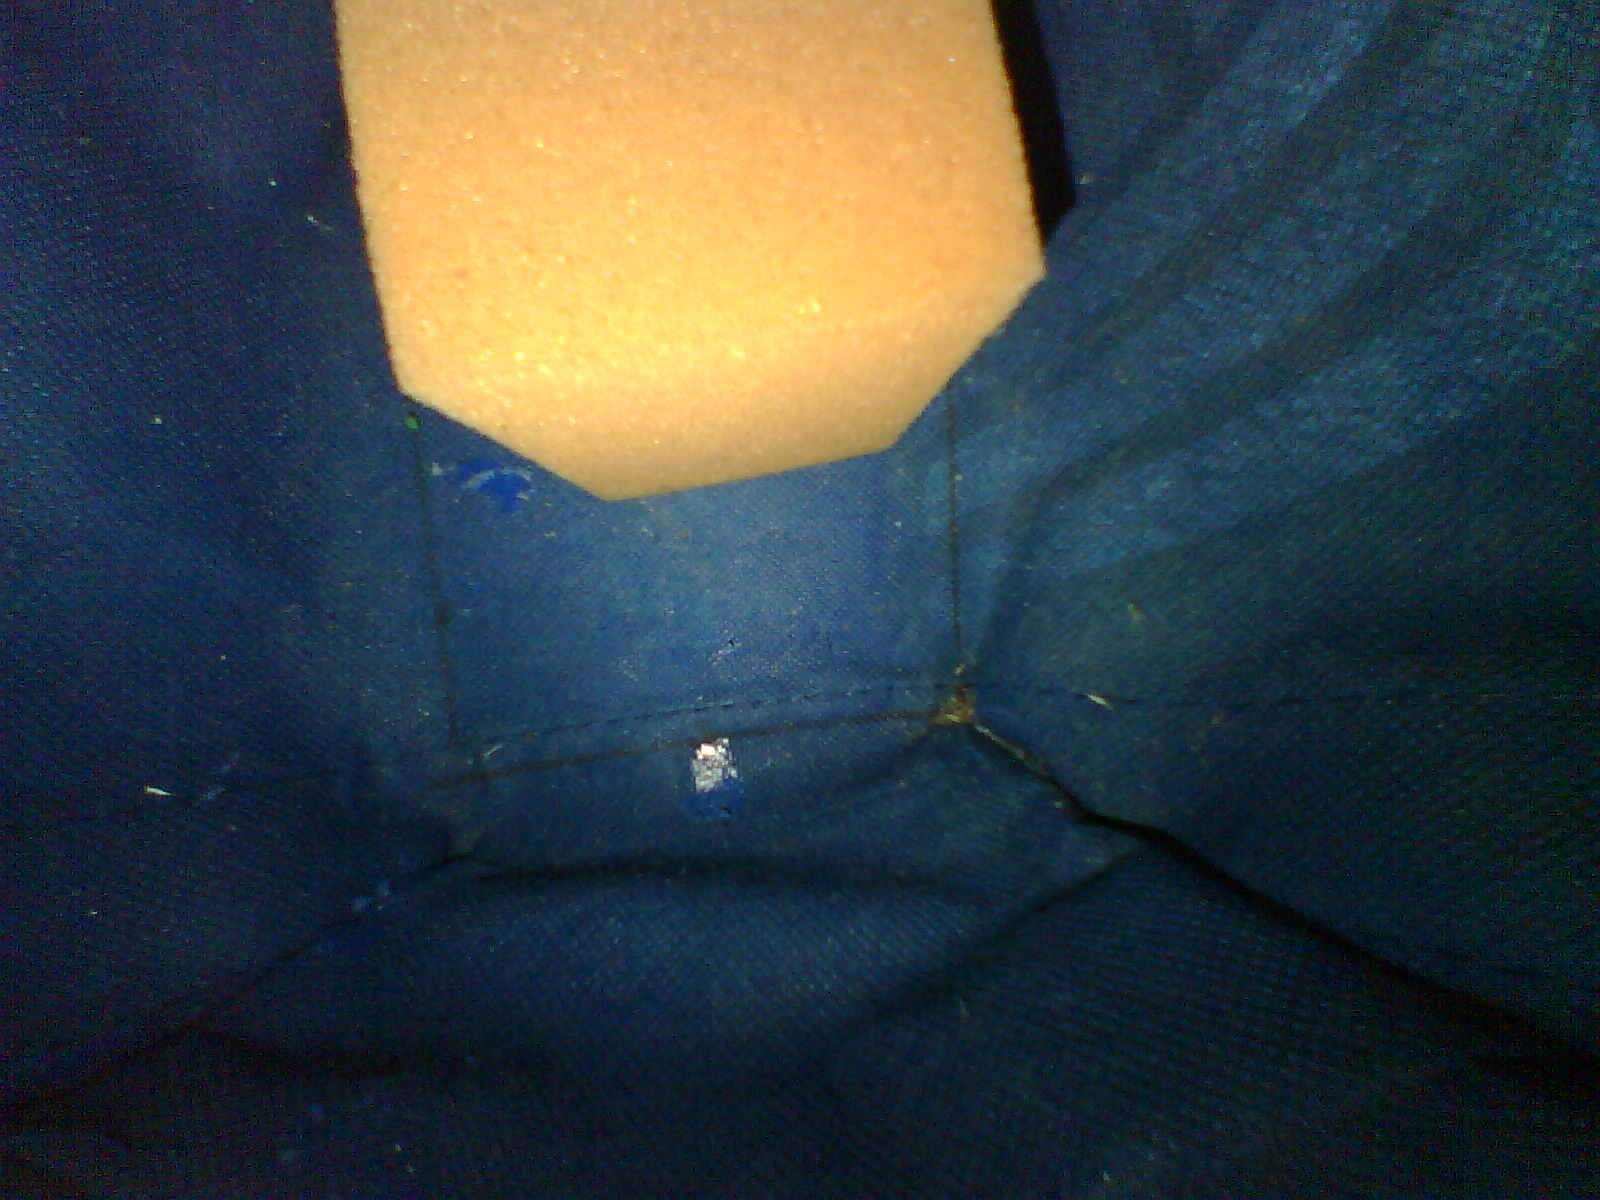cube-soft: (307, 0, 1050, 516)
